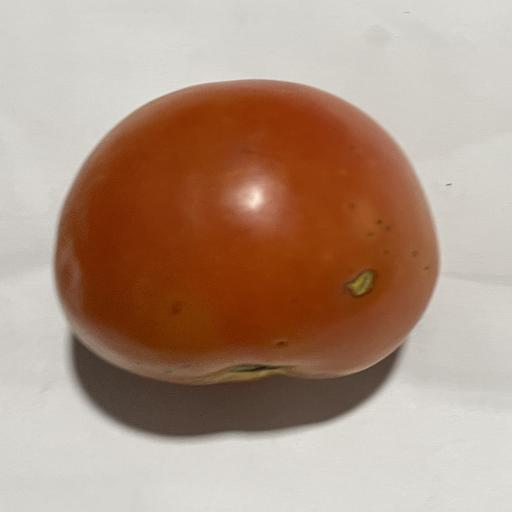ripe: (55, 80, 438, 383), (242, 185, 265, 210)
